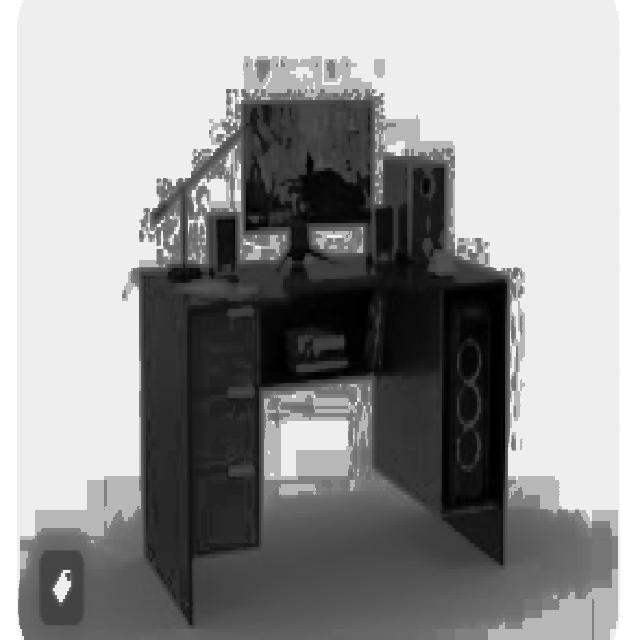table: (140, 249, 508, 625)
